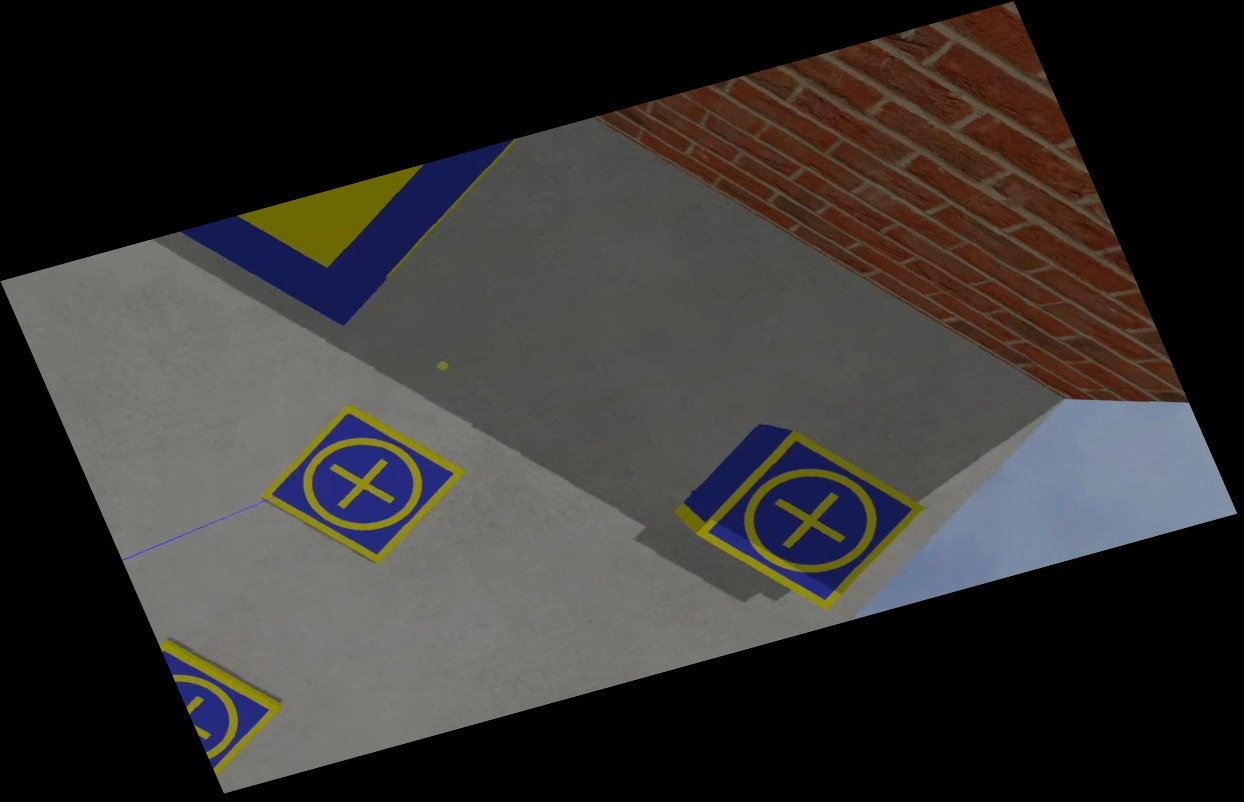large_base: (178, 133, 587, 351)
small_base: (668, 403, 954, 631), (235, 382, 490, 587), (155, 610, 308, 775)
